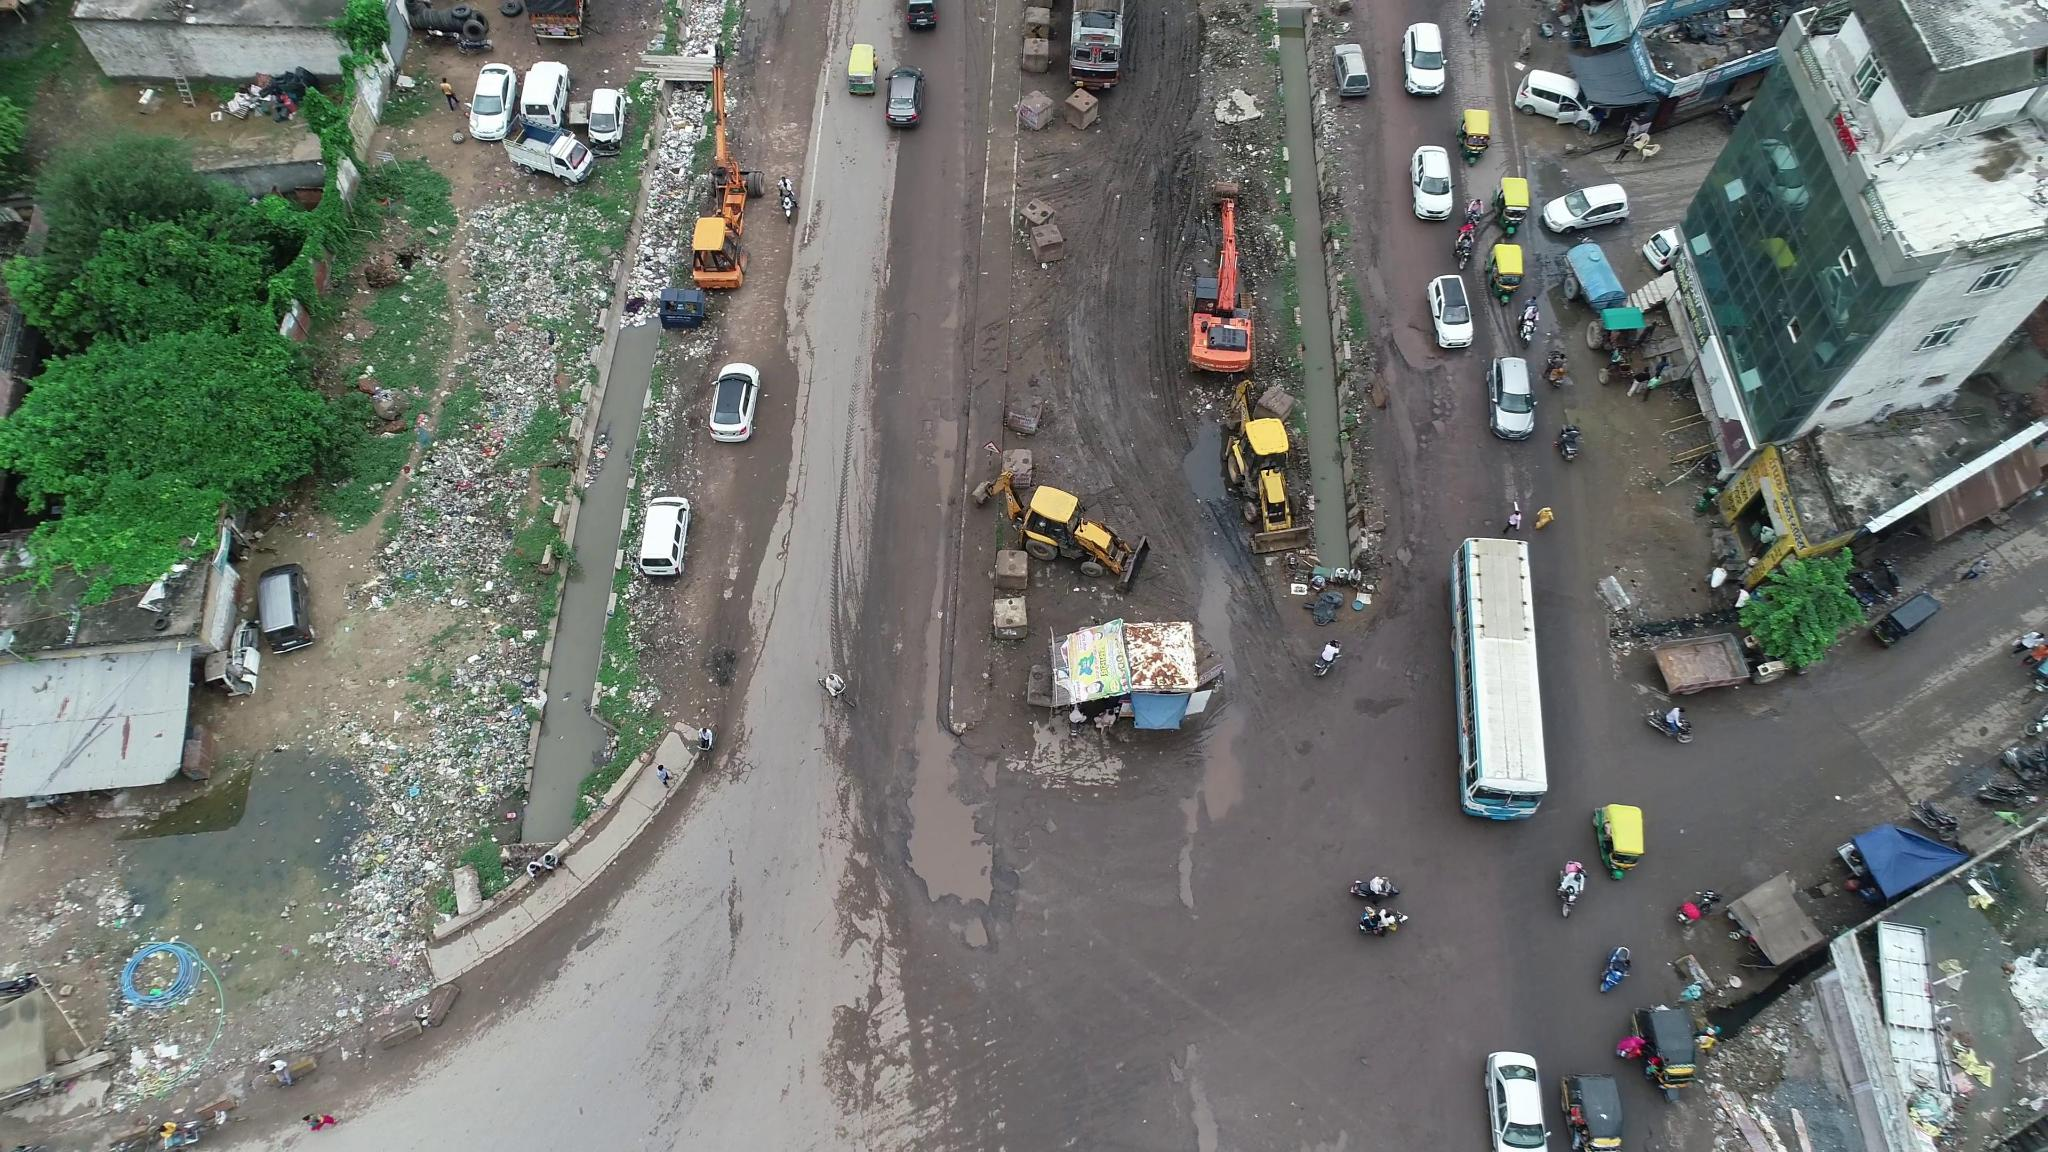Cracks: (760, 415, 836, 637)
Potholes: (1414, 369, 1470, 444), (914, 415, 938, 474)
Road_side_garbage: (378, 218, 577, 554), (345, 693, 530, 938), (623, 83, 710, 302)
